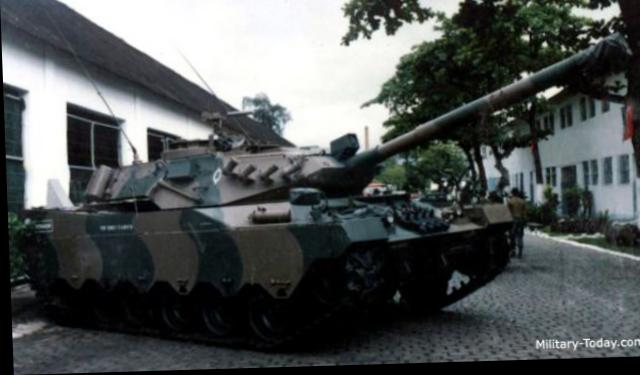tank: (4, 112, 546, 343)
